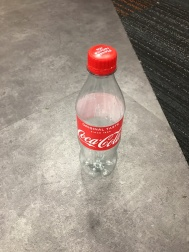bottle_red: (69, 38, 130, 188)
